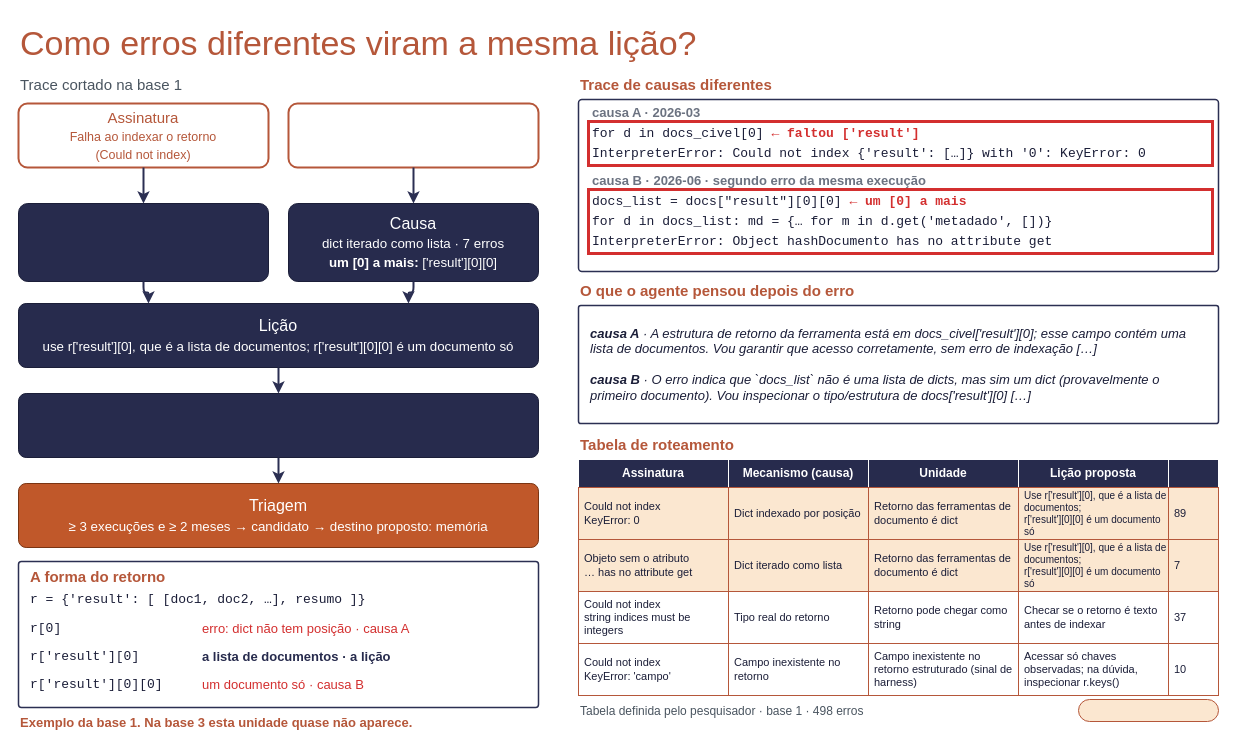
This 1236x750 diagram has some shape labels left out. The shapes that lost their labels are listed below. From the top down, each one's centre as x and y in pixels, then its label:
At point 413,135: "Assinatura Objeto sem o atributo esperado".
At point 143,242: "Causa dict indexado por posição · 89 erros faltou a chave: docs[0]".
At point 278,425: "Unidade U_contrato_dict · 96 erros · 87 execuções · 8 meses".
At point 1193,473: "Erros".
At point 1148,710: "mesma unidade".
